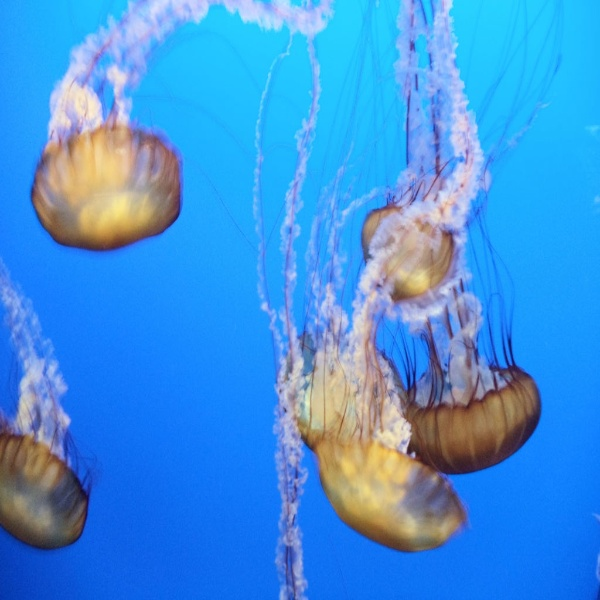Jellyfish: (244, 0, 468, 599), (363, 0, 564, 473), (30, 0, 335, 251), (342, 0, 497, 320), (0, 254, 101, 554)
